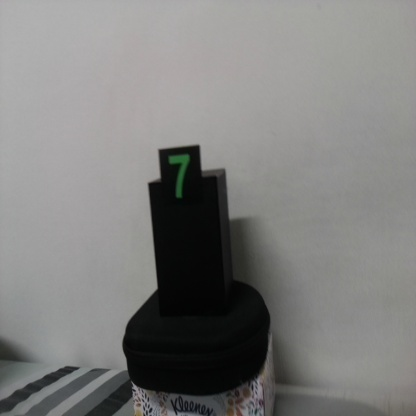id_7: (154, 147, 205, 216)
